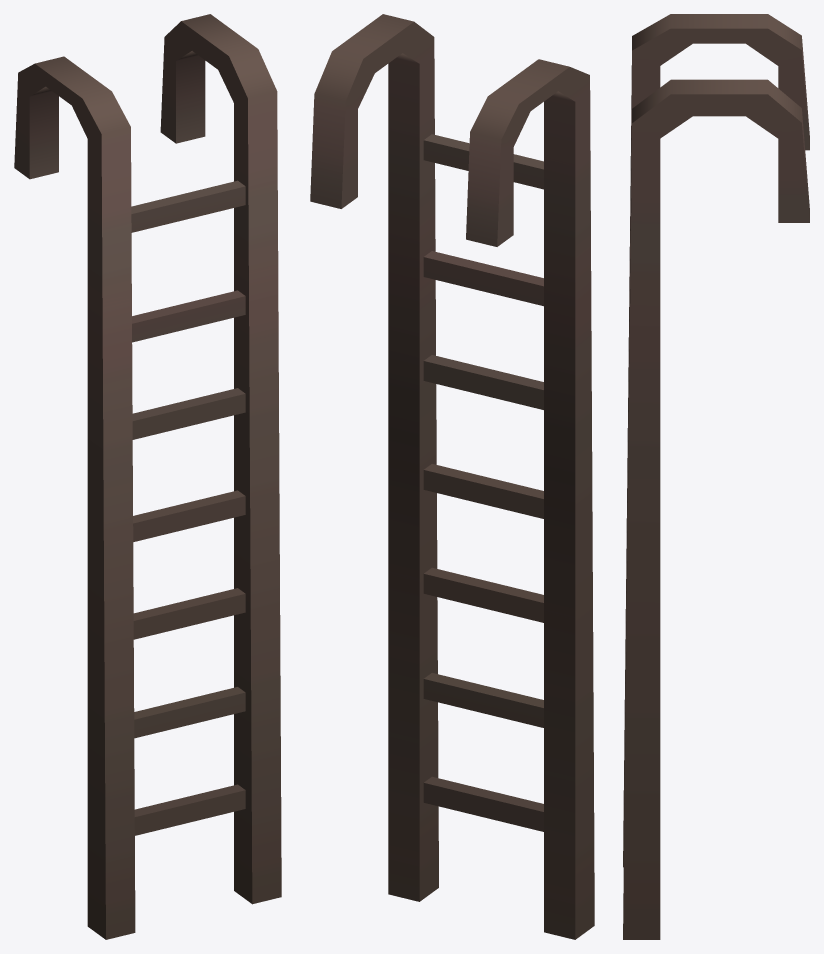
File: Ladder_1_C.fbx
3 views of the same model, side by side, from view 1: azimuth 30°, elevation 25°; view 2: azimuth 150°, elevation 25°; view 3: azimuth 270°, elevation 25° (orthographic). The views are drawn at different scales.
Visible parts, largest first — view 1: Ladder_1_C; view 2: Ladder_1_C; view 3: Ladder_1_C.
Part boxes in pixels (left/top/right/bottom): Ladder_1_C: left=14, top=14, right=281, bottom=939; Ladder_1_C: left=310, top=14, right=594, bottom=939; Ladder_1_C: left=623, top=14, right=809, bottom=939.
Size of the model in its own units: 65.17 by 295 by 58.95.
